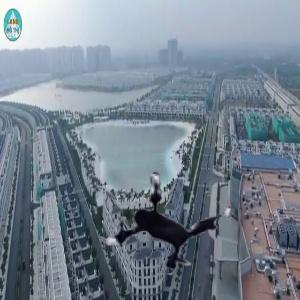drone: (89, 140, 243, 294)
